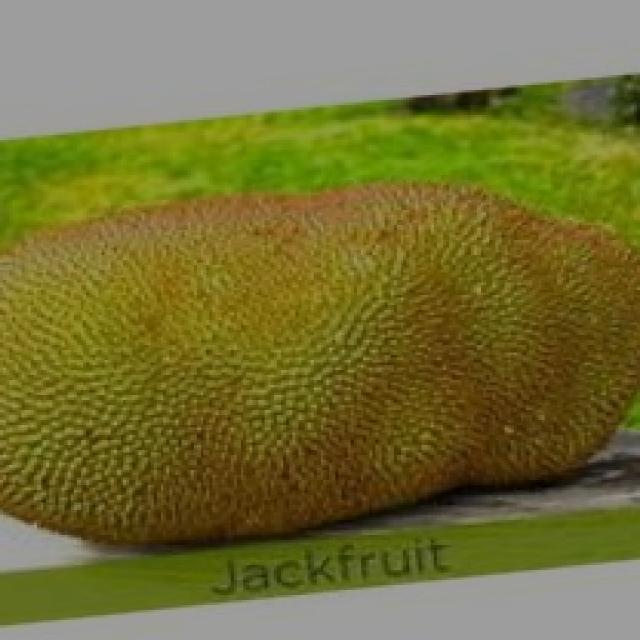Fruit: (0, 162, 406, 590), (237, 138, 640, 552)
